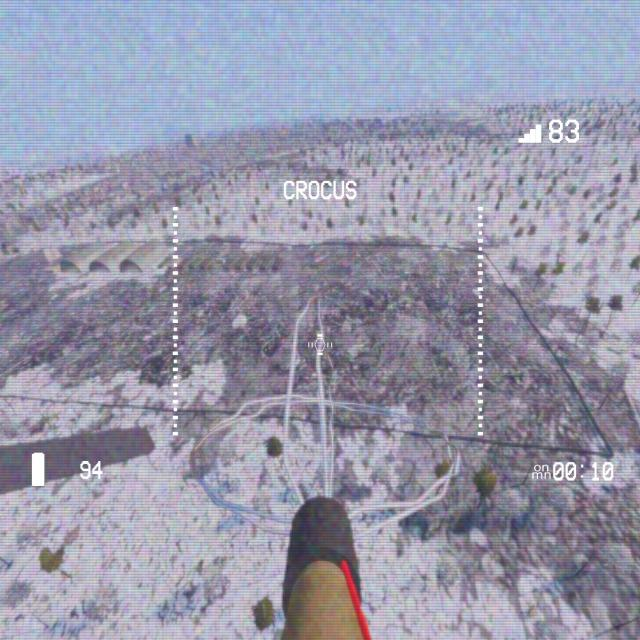fortification: (118, 229, 168, 277), (89, 229, 124, 281), (57, 234, 95, 280), (186, 250, 207, 276), (254, 250, 273, 276), (177, 247, 194, 276), (234, 252, 255, 274), (197, 250, 214, 276), (220, 250, 234, 276), (271, 250, 284, 272)
vehicle: (488, 343, 549, 404)
